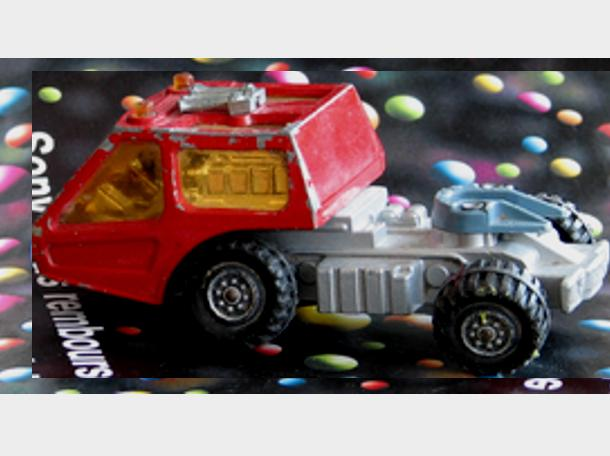toy-car: (32, 71, 610, 378)
